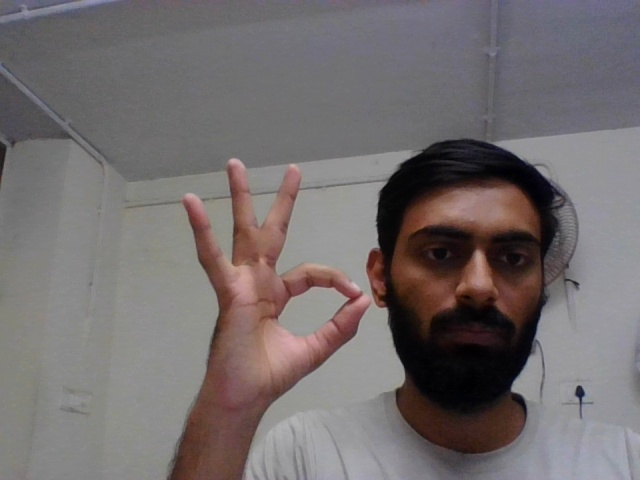F: (176, 154, 365, 426)
